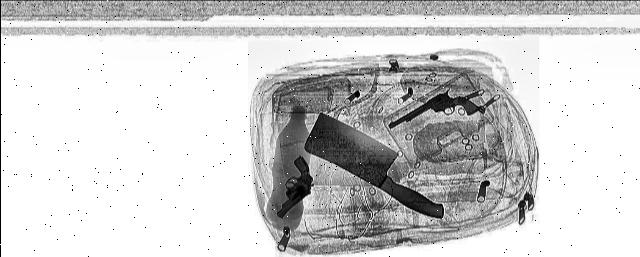Gun: (240, 156, 344, 218), (382, 90, 496, 138)
Knife: (263, 112, 493, 220)
